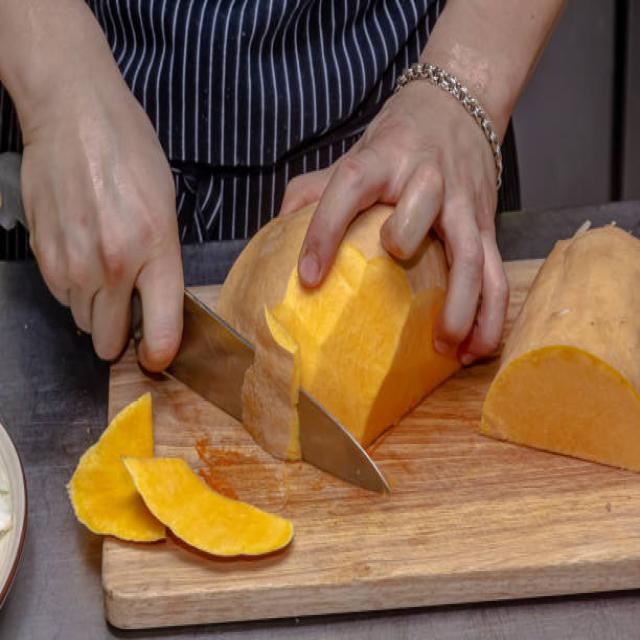Wet: (122, 450, 297, 563), (65, 388, 168, 548), (237, 304, 313, 462)
